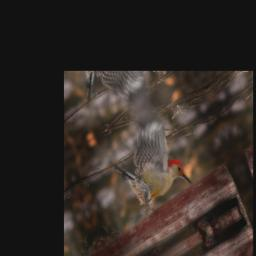Woodpecker: (100, 98, 194, 221)
